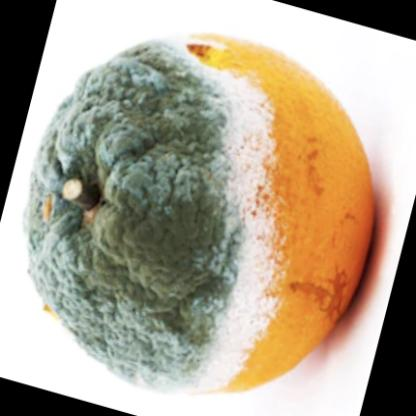rotten: (27, 33, 374, 395)
